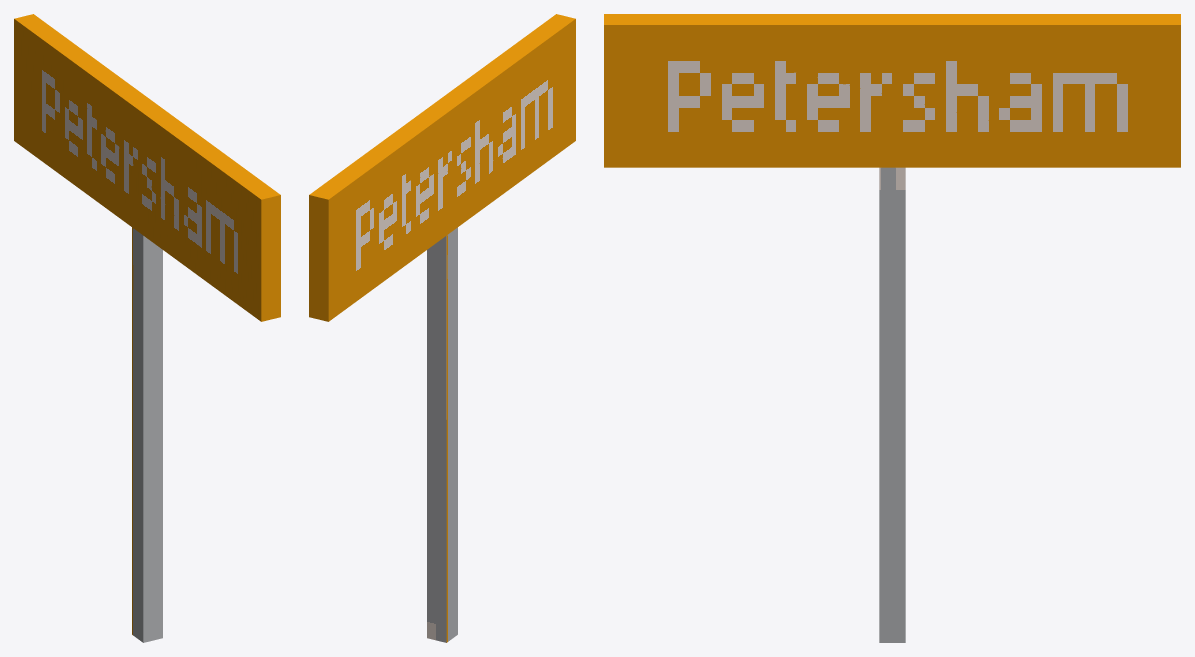
3 views of the same model, side by side, from view 1: azimuth 30°, elevation 25°; view 2: azimuth 150°, elevation 25°; view 3: azimuth 270°, elevation 25° (orthographic). The views are drawn at different scales.
Visible parts, largest first — view 1: Cube, Cube.001; view 2: Cube, Cube.001; view 3: Cube, Cube.001.
Boxes of the visible parts, x1=… form: Cube: x1=14, y1=14, x2=280, y2=321; Cube.001: x1=132, y1=227, x2=162, y2=642; Cube: x1=309, y1=14, x2=575, y2=321; Cube.001: x1=427, y1=227, x2=457, y2=642; Cube: x1=604, y1=14, x2=1180, y2=167; Cube.001: x1=879, y1=167, x2=905, y2=642.
Size of the model in its own units: 0.2 by 5.2 by 4.4.
Materials: 2 (2 with a texture image).
